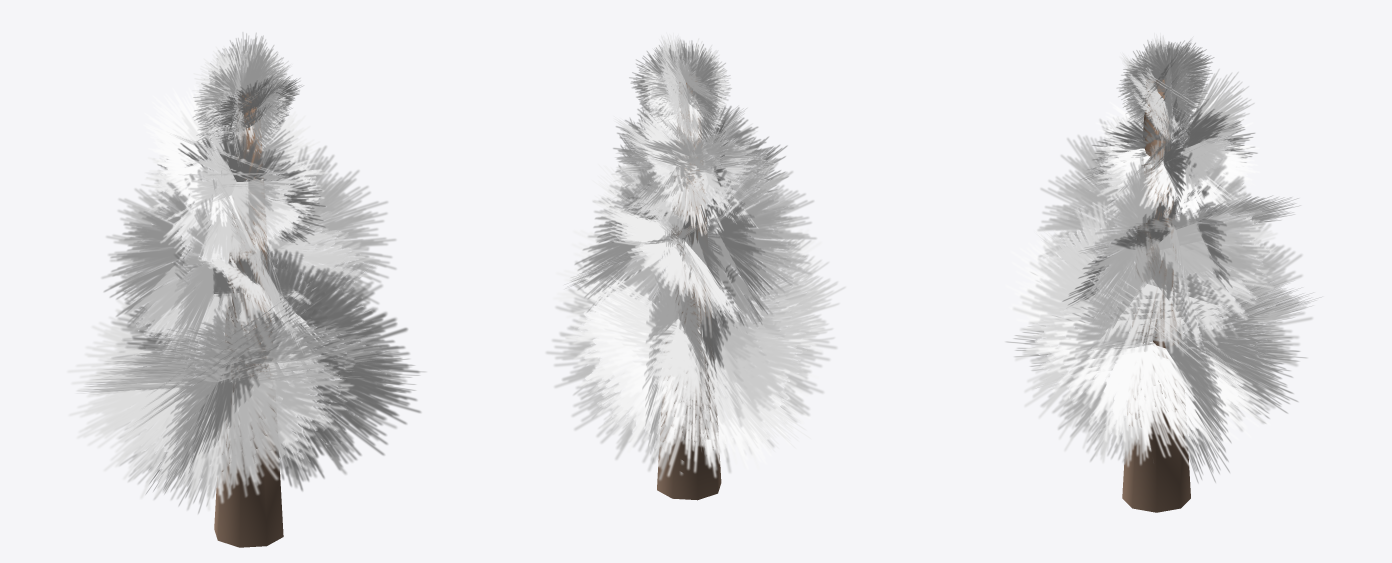
File: pine_stylized_2.glb
The picture shows the model from 3 angles, left to right: view 1: azimuth 30°, elevation 25°; view 2: azimuth 150°, elevation 25°; view 3: azimuth 270°, elevation 25°; orthographic projection. The views are drawn at different scales.
Visible parts, largest first — view 1: Plane.002, Plane, Plane.001, Plane.003, Cone; view 2: Plane.002, Plane, Plane.001, Plane.003, Cone; view 3: Plane.002, Plane, Plane.001, Plane.003, Cone.
Part boxes in pixels (x1=…): Plane.002: x1=67, y1=32, x2=425, y2=513; Plane: x1=76, y1=38, x2=414, y2=501; Plane.001: x1=87, y1=84, x2=398, y2=477; Plane.003: x1=96, y1=93, x2=379, y2=459; Cone: x1=214, y1=93, x2=283, y2=547; Plane.002: x1=545, y1=32, x2=845, y2=480; Plane: x1=554, y1=39, x2=837, y2=469; Plane.001: x1=566, y1=69, x2=826, y2=445; Plane.003: x1=574, y1=83, x2=817, y2=423; Cone: x1=657, y1=81, x2=721, y2=500; Plane.002: x1=1005, y1=33, x2=1321, y2=483; Plane: x1=1015, y1=38, x2=1313, y2=471; Plane.001: x1=1028, y1=66, x2=1302, y2=445; Plane.003: x1=1037, y1=74, x2=1292, y2=423; Cone: x1=1122, y1=79, x2=1190, y2=512.
Bounding box in the file's own units: 2.49 × 3.28 × 2.56.
Materials: 2 (1 with a texture image).
